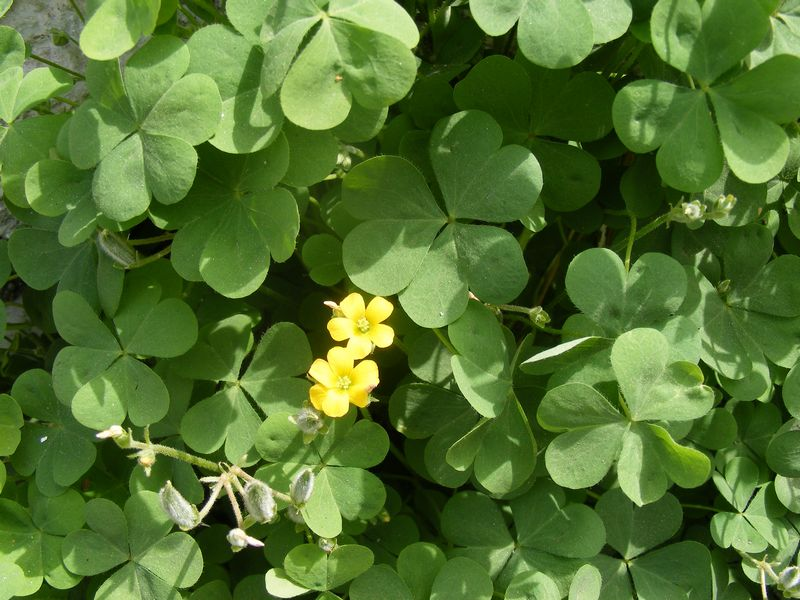oxalis: (12, 11, 790, 600)
